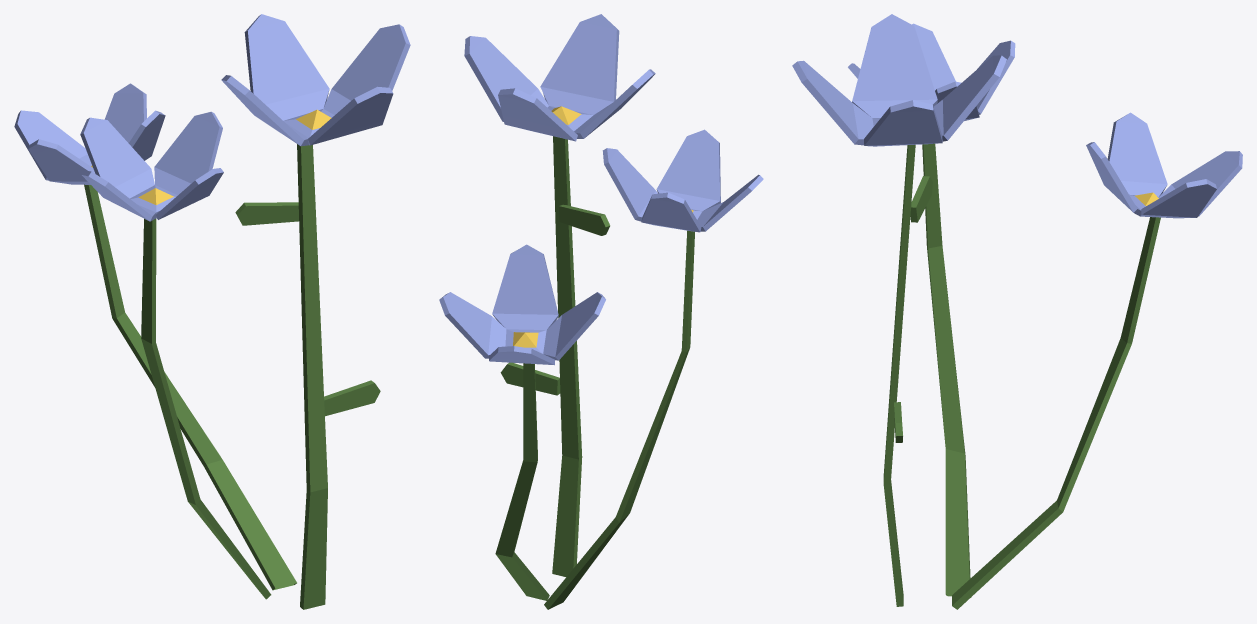
Rendered from fleurs_touffe.glb.
3 views of the same model, side by side, from view 1: azimuth 30°, elevation 25°; view 2: azimuth 150°, elevation 25°; view 3: azimuth 270°, elevation 25° (orthographic). The views are drawn at different scales.
Parts seen in each view (by area): view 1: fleurs_touffe; view 2: fleurs_touffe; view 3: fleurs_touffe.
Part boxes in pixels (bbox=[...]): fleurs_touffe: bbox=[14, 14, 410, 609]; fleurs_touffe: bbox=[439, 14, 763, 609]; fleurs_touffe: bbox=[792, 14, 1242, 609].
Bounding box in the file's own units: 0.3543 × 0.6 × 0.4442.
